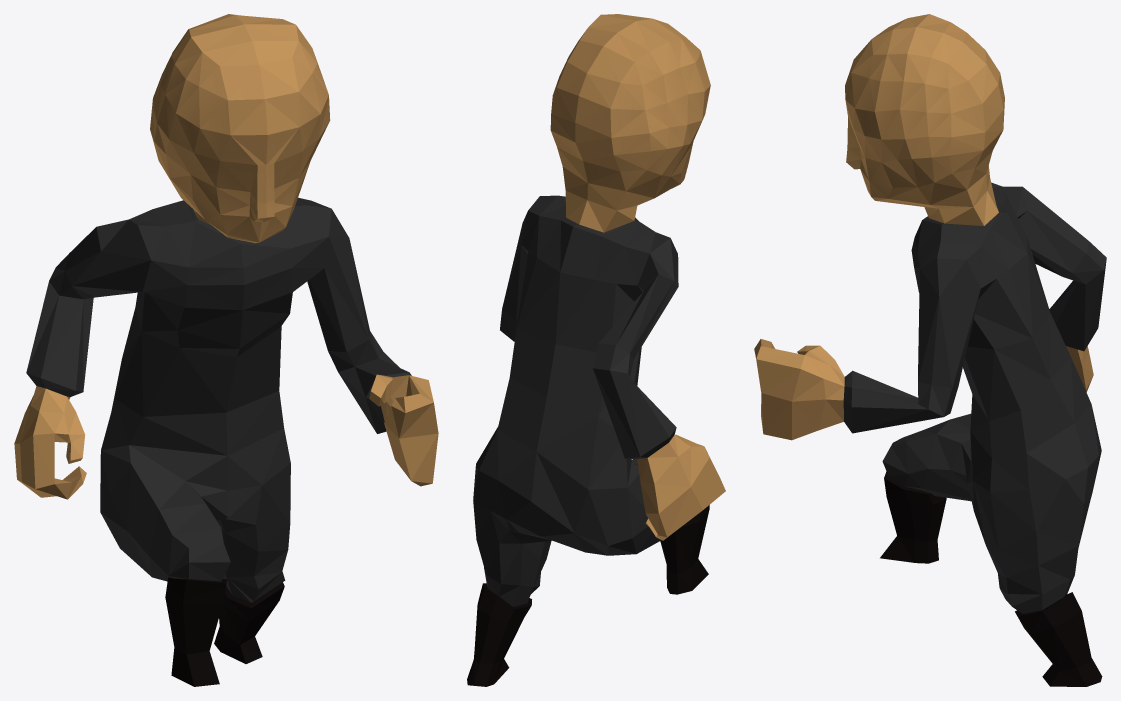
File: KnightCharacter18.obj
The picture shows the model from 3 angles, left to right: view 1: azimuth 30°, elevation 25°; view 2: azimuth 150°, elevation 25°; view 3: azimuth 270°, elevation 25°; orthographic projection. The views are drawn at different scales.
Visible parts, largest first — view 1: Knight; view 2: Knight; view 3: Knight.
Boxes of the visible parts, bbox=[...] form: Knight: bbox=[14, 14, 438, 686]; Knight: bbox=[467, 14, 725, 686]; Knight: bbox=[754, 14, 1106, 686].
Size of the model in its own units: 2.36 by 5.32 by 2.74.
